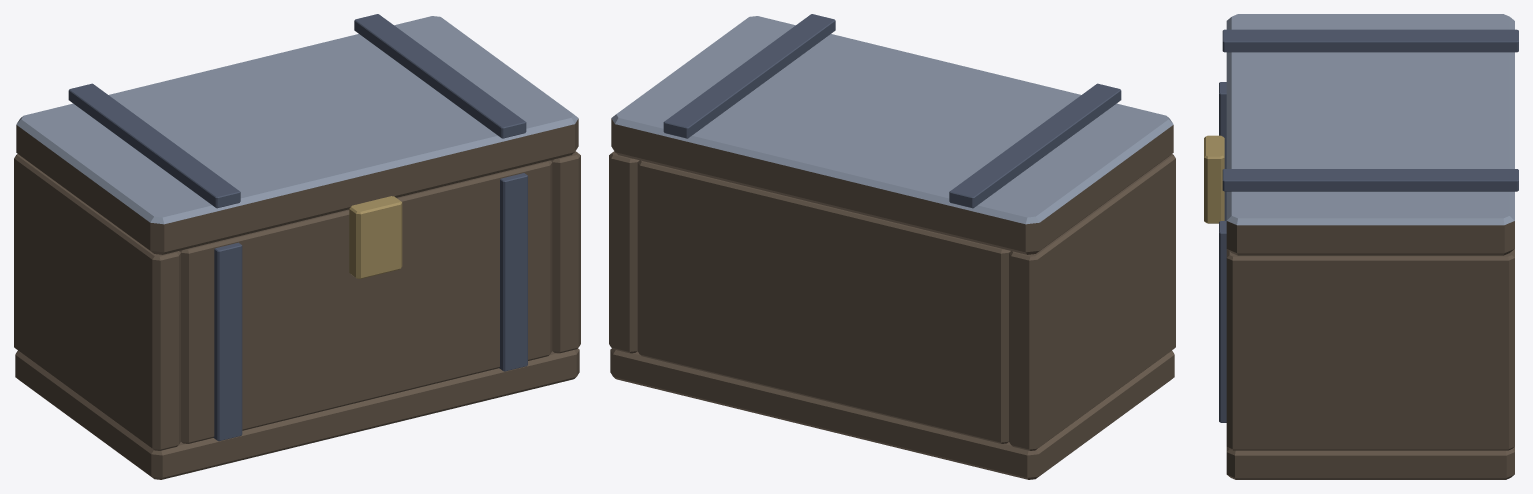
File: supply-cache.glb
The picture shows the model from 3 angles, left to right: view 1: azimuth 30°, elevation 25°; view 2: azimuth 150°, elevation 25°; view 3: azimuth 270°, elevation 25°; orthographic projection.
Parts seen in each view (by area): view 1: supply-cache__body; view 2: supply-cache__body; view 3: supply-cache__body.
Boxes of the visible parts, x1,y1,x2,y2 form: supply-cache__body: (14,14,580,479); supply-cache__body: (609,14,1175,479); supply-cache__body: (1204,14,1518,479).
Bounding box in the file's own units: 1.2 × 0.73 × 0.765.
